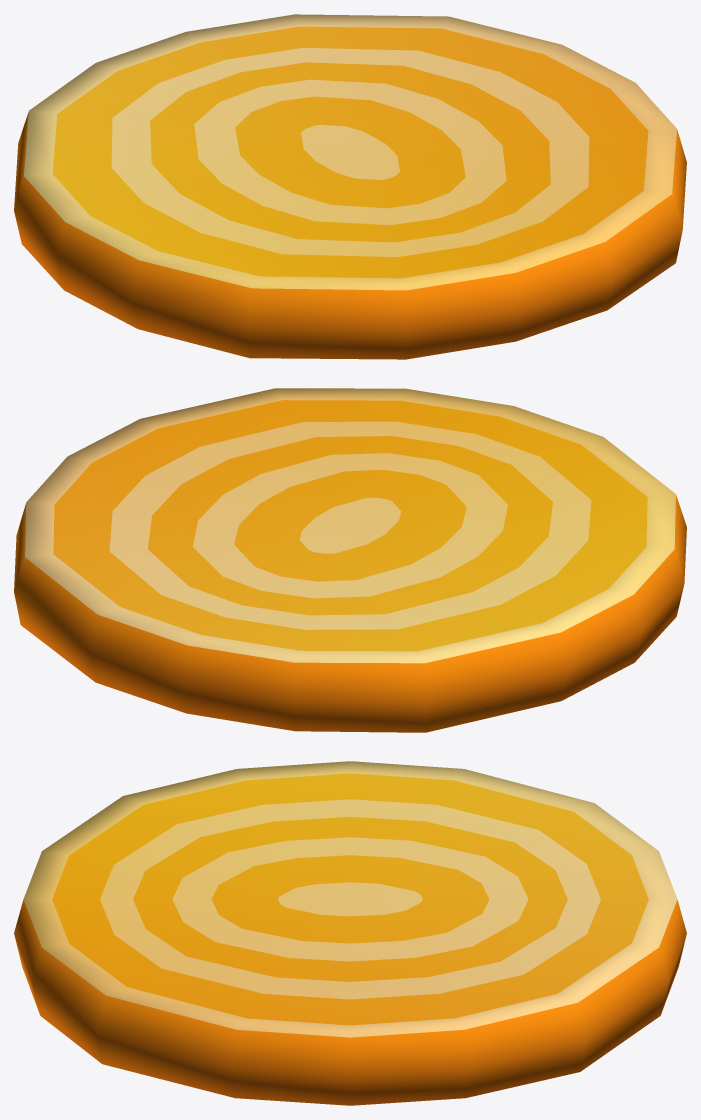
Rendered from onion_004.fbx.
3 views of the same model, one above another, from view 1: azimuth 30°, elevation 25°; view 2: azimuth 150°, elevation 25°; view 3: azimuth 270°, elevation 25° (orthographic).
Parts seen in each view (by area): view 1: onion_004; view 2: onion_004; view 3: onion_004.
Boxes of the visible parts, box(x1,y1,x2,y2) form: onion_004: box(14, 14, 686, 359); onion_004: box(14, 388, 686, 732); onion_004: box(14, 761, 686, 1105).
Size of the model in its own units: 6.81 by 6.81 by 0.7561.
